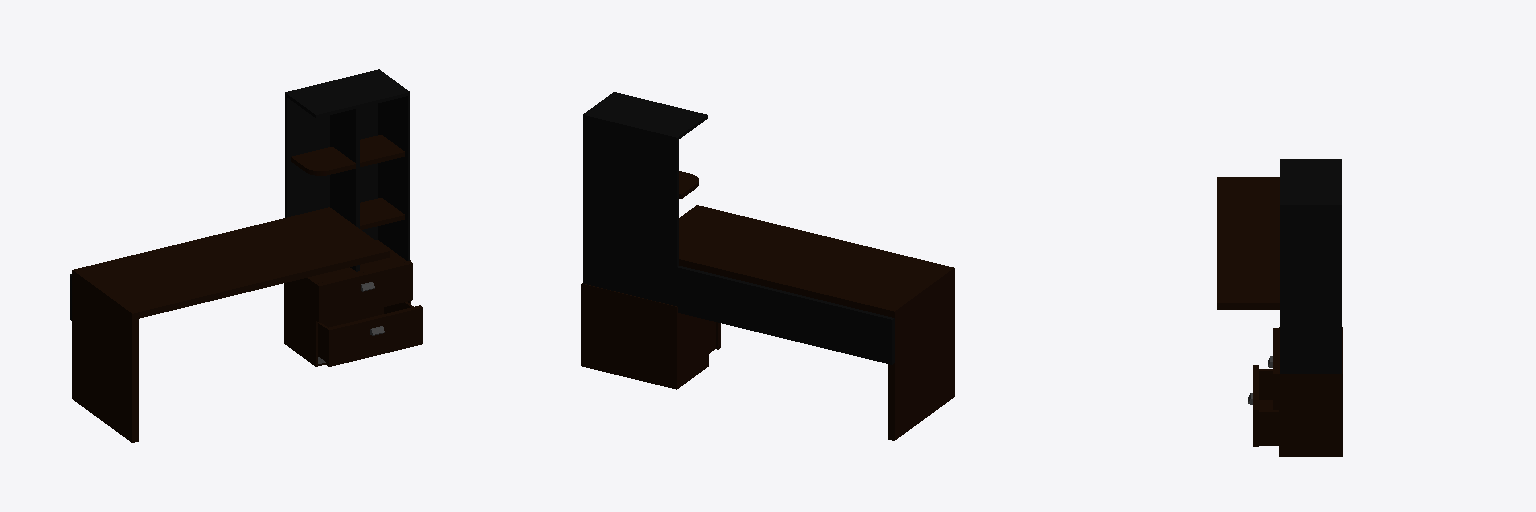
File: desk6.obj
The picture shows the model from 3 angles: view 1: azimuth 30°, elevation 25°; view 2: azimuth 150°, elevation 25°; view 3: azimuth 270°, elevation 25°; orthographic projection.
Parts seen in each view (by area): view 1: BasicDesk_RightPositioned, DownCabinet.001, TopCabinet.002; view 2: BasicDesk_RightPositioned; view 3: BasicDesk_RightPositioned, DownCabinet.001, TopCabinet.002.
Boxes of the visible parts, box(x1,y1,x2,y2) form: BasicDesk_RightPositioned: box(70, 69, 410, 442); DownCabinet.001: box(318, 302, 422, 366); TopCabinet.002: box(316, 261, 412, 322); BasicDesk_RightPositioned: box(581, 92, 954, 440); BasicDesk_RightPositioned: box(1217, 159, 1342, 456); DownCabinet.001: box(1248, 365, 1278, 446); TopCabinet.002: box(1268, 328, 1278, 409).
Bounding box in the file's own units: 3.47 × 2.7 × 1.22.